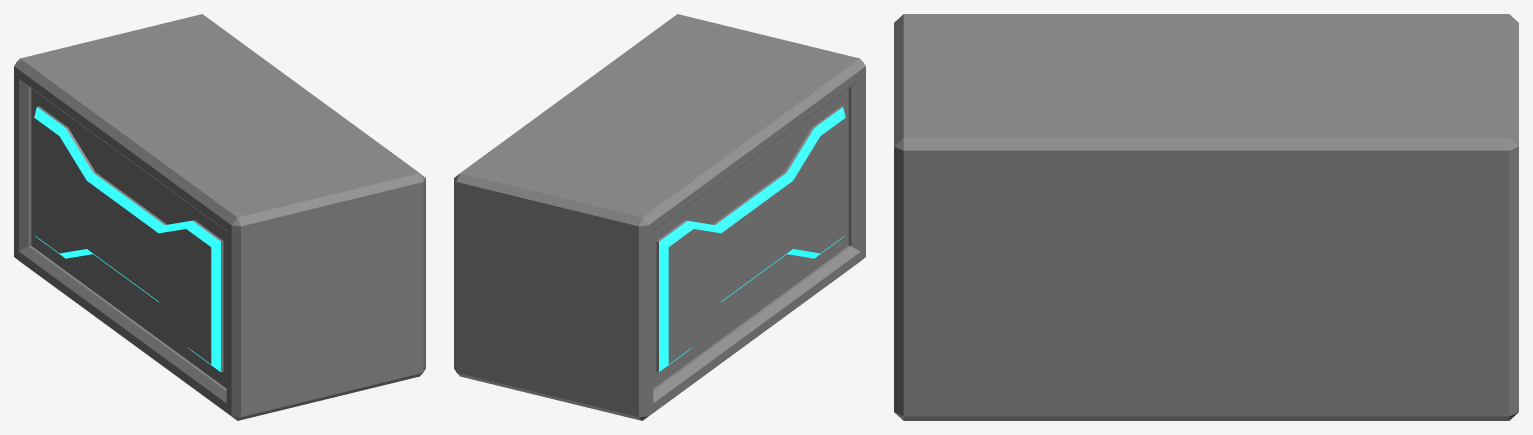
File: Connector_1_2_1_mesh.glb
3 views of the same model, side by side, from view 1: azimuth 30°, elevation 25°; view 2: azimuth 150°, elevation 25°; view 3: azimuth 270°, elevation 25° (orthographic). The views are drawn at different scales.
Visible parts, largest first — view 1: Connector_1_2_1_mesh; view 2: Connector_1_2_1_mesh; view 3: Connector_1_2_1_mesh.
Part boxes in pixels (x1,y1,x2,y2): Connector_1_2_1_mesh: (14,14,425,420); Connector_1_2_1_mesh: (454,14,865,420); Connector_1_2_1_mesh: (894,14,1518,420).
Bounding box in the file's own units: 1 × 1 × 2.
